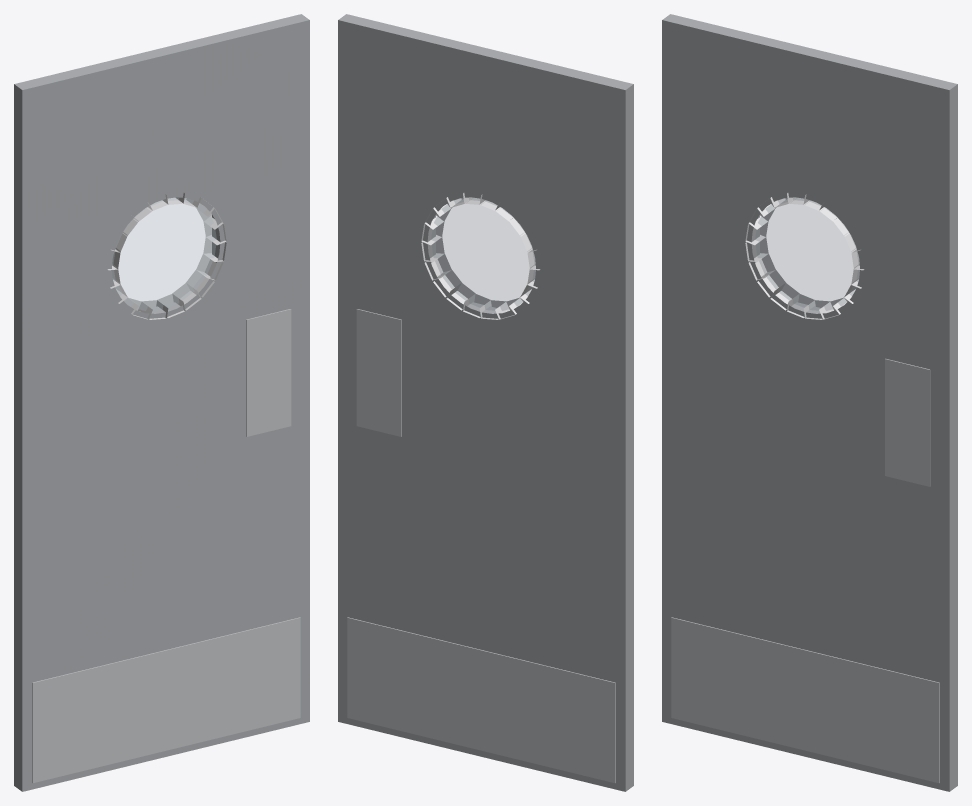
File: mlo_door_swing_kitchen.glb
The picture shows the model from 3 angles, left to right: view 1: azimuth 30°, elevation 25°; view 2: azimuth 150°, elevation 25°; view 3: azimuth 330°, elevation 25°; orthographic projection.
Parts seen in each view (by area): view 1: Door_Swing_Kitchen; view 2: Door_Swing_Kitchen; view 3: Door_Swing_Kitchen.
Part boxes in pixels (bbox=[...]): Door_Swing_Kitchen: bbox=[14, 14, 309, 791]; Door_Swing_Kitchen: bbox=[338, 14, 633, 791]; Door_Swing_Kitchen: bbox=[662, 14, 957, 791].
Bounding box in the file's own units: 0.9 × 2.1 × 0.061.
